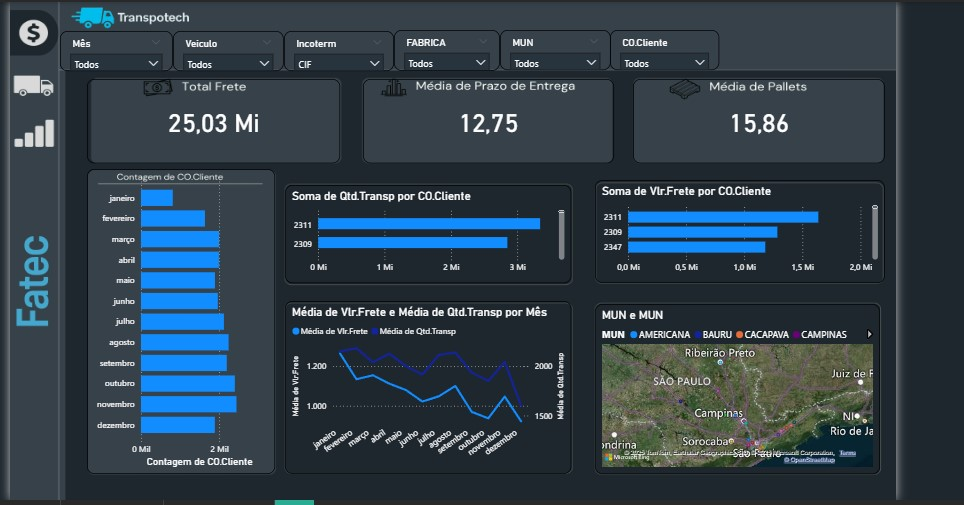

The dashboard page shown, as its layout file describes it:
{"tool":"powerbi","page":{"name":"VALORES","canvas":[1280,720],"ordinal":0},"visuals":[{"type":"clusteredBarChart","fields":{"Y":["CountNonNull(Rotas_formatado (1).CO.Cliente)"],"Category":["Rotas_formatado (1).Dt.Entrega.Variation.Hierarquia de datas.Mês"]},"box":[112,242,272,441],"z":0},{"type":"lineChart","fields":{"Category":["Rotas_formatado (1).Dt.Pedido.Variation.Hierarquia de datas.Mês"],"Y":["Avg(Rotas_formatado (1).Vlr.Frete)"],"Y2":["Avg(Rotas_formatado (1).Qtd.Transp)"]},"box":[398,433,414,250],"z":1000},{"type":"map","fields":{"Category":["Clientes.MUN"],"Series":["Clientes.MUN"]},"box":[846,437,412,246],"z":2000},{"type":"clusteredBarChart","fields":{"Category":["Rotas_formatado (1).CO.Cliente"],"Y":["Sum(Rotas_formatado (1).Qtd.Transp)"]},"box":[398,265,414,142],"z":3000},{"type":"clusteredBarChart","fields":{"Category":["Rotas_formatado (1).CO.Cliente"],"Y":["Sum(Rotas_formatado (1).Vlr.Frete)"]},"box":[846,258,419,149],"z":4000},{"type":"card","fields":{"Values":["Avg(Rotas_formatado (1).Prazo_Entrega)"]},"box":[510,111,363,122],"z":5000},{"type":"card","fields":{"Values":["Avg(Rotas_formatado (1).Qtd/pallets)"]},"box":[901,111,364,122],"z":6000},{"type":"card","fields":{"Values":["Sum(Rotas_formatado (1).Vlr.Frete)"]},"box":[112,111,366,122],"z":7000},{"type":"slicer","fields":{"Values":["Rotas_formatado (1).Dt.Entrega.Variation.Hierarquia de datas.Mês"]},"box":[73,42,163,58],"z":8000},{"type":"slicer","fields":{"Values":["Rotas_formatado (1).Veiculo"]},"box":[236,42,160,58],"z":9000},{"type":"slicer","fields":{"Values":["Rotas_formatado (1).Incoterm"]},"box":[396,42,159,58],"z":10000},{"type":"slicer","fields":{"Values":["Fabricas.NO_MUN"]},"box":[555.1,40.8,153.4,58.5],"z":11000},{"type":"slicer","fields":{"Values":["Clientes.MUN"]},"box":[708,41,160,58],"z":12000},{"type":"slicer","fields":{"Values":["Rotas_formatado (1).CO.Cliente"]},"box":[868,41,158,58],"z":13000},{"type":"actionButton","box":[0,82,73,58],"z":14000},{"type":"actionButton","box":[0,147,73,61],"z":15000}]}

Visuals, with their boxes on the page's 1280x720 design canvas (x1, y1, x2, y2). These are canvas units, not pixel positions in the 964x505 screenshot, which may show the page scaled, cropped or inside an application window:
clusteredBarChart - CountNonNull(Rotas_formatado (1).CO.Cliente) x Rotas_formatado (1).Dt.Entrega.Variation.Hierarquia de datas.Mês: {"left": 112, "top": 242, "right": 384, "bottom": 683}
lineChart - Rotas_formatado (1).Dt.Pedido.Variation.Hierarquia de datas.Mês x Avg(Rotas_formatado (1).Vlr.Frete): {"left": 398, "top": 433, "right": 812, "bottom": 683}
map - Clientes.MUN x Clientes.MUN: {"left": 846, "top": 437, "right": 1258, "bottom": 683}
clusteredBarChart - Rotas_formatado (1).CO.Cliente x Sum(Rotas_formatado (1).Qtd.Transp): {"left": 398, "top": 265, "right": 812, "bottom": 407}
clusteredBarChart - Rotas_formatado (1).CO.Cliente x Sum(Rotas_formatado (1).Vlr.Frete): {"left": 846, "top": 258, "right": 1265, "bottom": 407}
card - Avg(Rotas_formatado (1).Prazo_Entrega): {"left": 510, "top": 111, "right": 873, "bottom": 233}
card - Avg(Rotas_formatado (1).Qtd/pallets): {"left": 901, "top": 111, "right": 1265, "bottom": 233}
card - Sum(Rotas_formatado (1).Vlr.Frete): {"left": 112, "top": 111, "right": 478, "bottom": 233}
slicer - Rotas_formatado (1).Dt.Entrega.Variation.Hierarquia de datas.Mês: {"left": 73, "top": 42, "right": 236, "bottom": 100}
slicer - Rotas_formatado (1).Veiculo: {"left": 236, "top": 42, "right": 396, "bottom": 100}
slicer - Rotas_formatado (1).Incoterm: {"left": 396, "top": 42, "right": 555, "bottom": 100}
slicer - Fabricas.NO_MUN: {"left": 555, "top": 41, "right": 708, "bottom": 99}
slicer - Clientes.MUN: {"left": 708, "top": 41, "right": 868, "bottom": 99}
slicer - Rotas_formatado (1).CO.Cliente: {"left": 868, "top": 41, "right": 1026, "bottom": 99}
actionButton: {"left": 0, "top": 82, "right": 73, "bottom": 140}
actionButton: {"left": 0, "top": 147, "right": 73, "bottom": 208}
